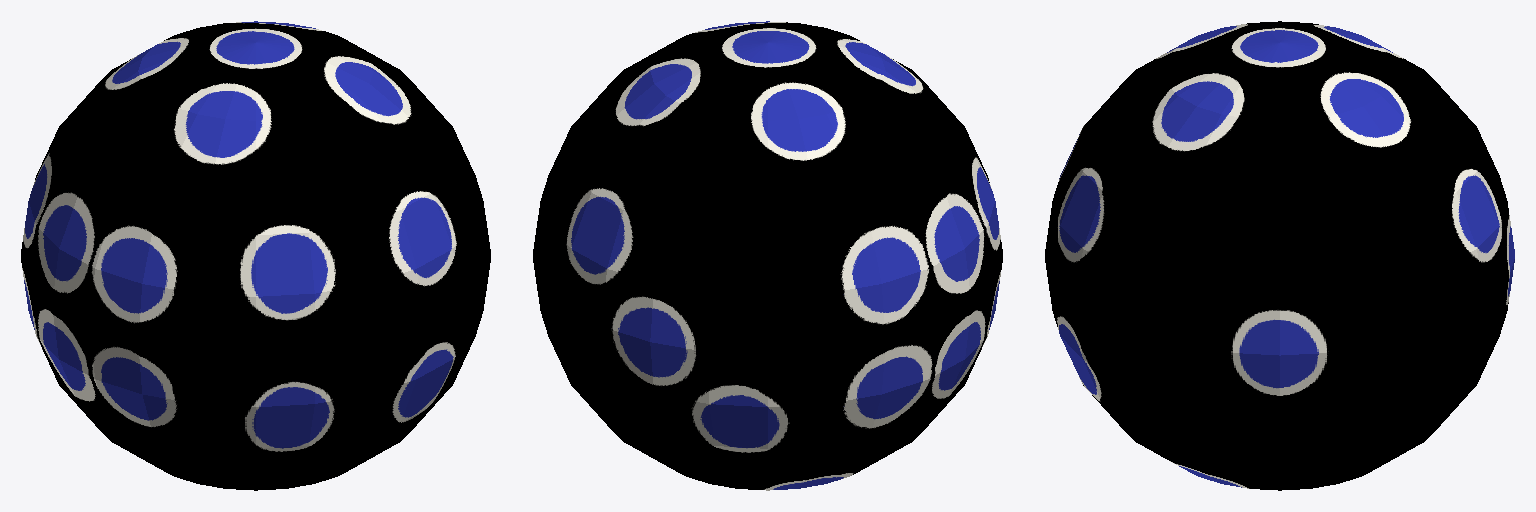
3 views of the same model, side by side, from view 1: azimuth 30°, elevation 25°; view 2: azimuth 150°, elevation 25°; view 3: azimuth 270°, elevation 25° (orthographic).
Visible parts, largest first — view 1: Sphere_None; view 2: Sphere_None; view 3: Sphere_None.
Boxes of the visible parts, <box> form: Sphere_None: <box>21,21,490,490</box>; Sphere_None: <box>533,21,1002,490</box>; Sphere_None: <box>1045,21,1514,490</box>.
Size of the model in its own units: 2 by 2 by 2.
1 materials, 1 textured.